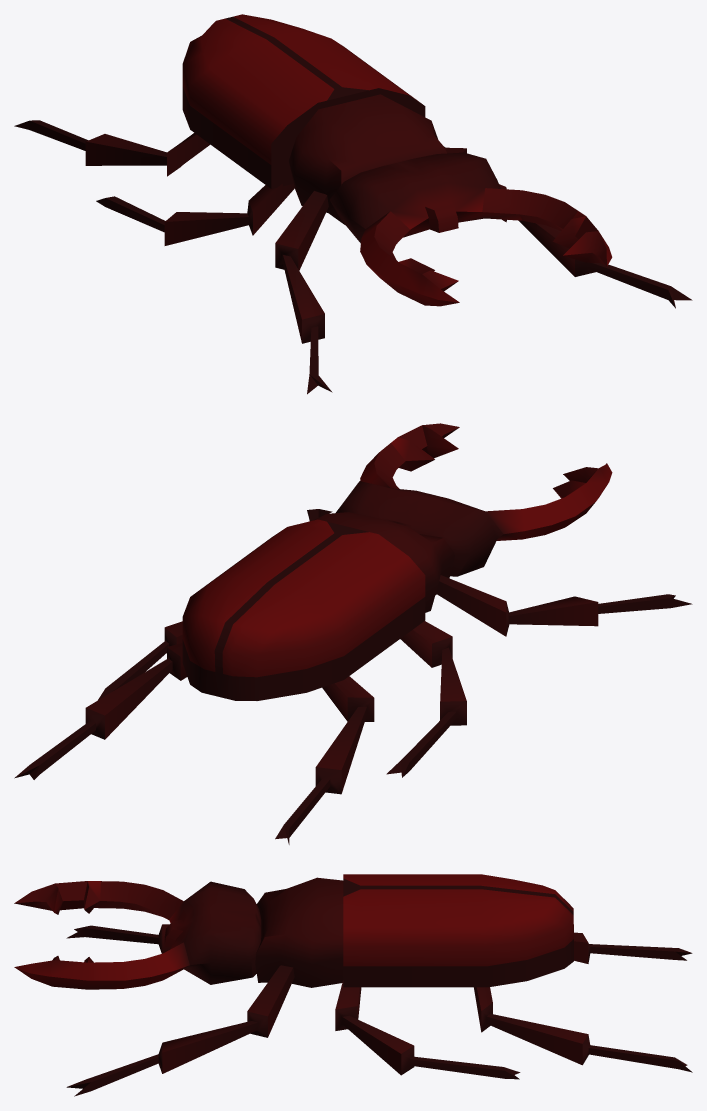
The model's file is Insects_StagBeetle.fbx.
3 views of the same model, one above another, from view 1: azimuth 30°, elevation 25°; view 2: azimuth 150°, elevation 25°; view 3: azimuth 270°, elevation 25° (orthographic). The views are drawn at different scales.
Parts seen in each view (by area): view 1: base; view 2: base; view 3: base.
Part boxes in pixels (bbox=[...]): base: bbox=[14, 14, 692, 394]; base: bbox=[14, 423, 692, 844]; base: bbox=[14, 874, 692, 1096].
Size of the model in its own units: 165 by 57.47 by 282.
